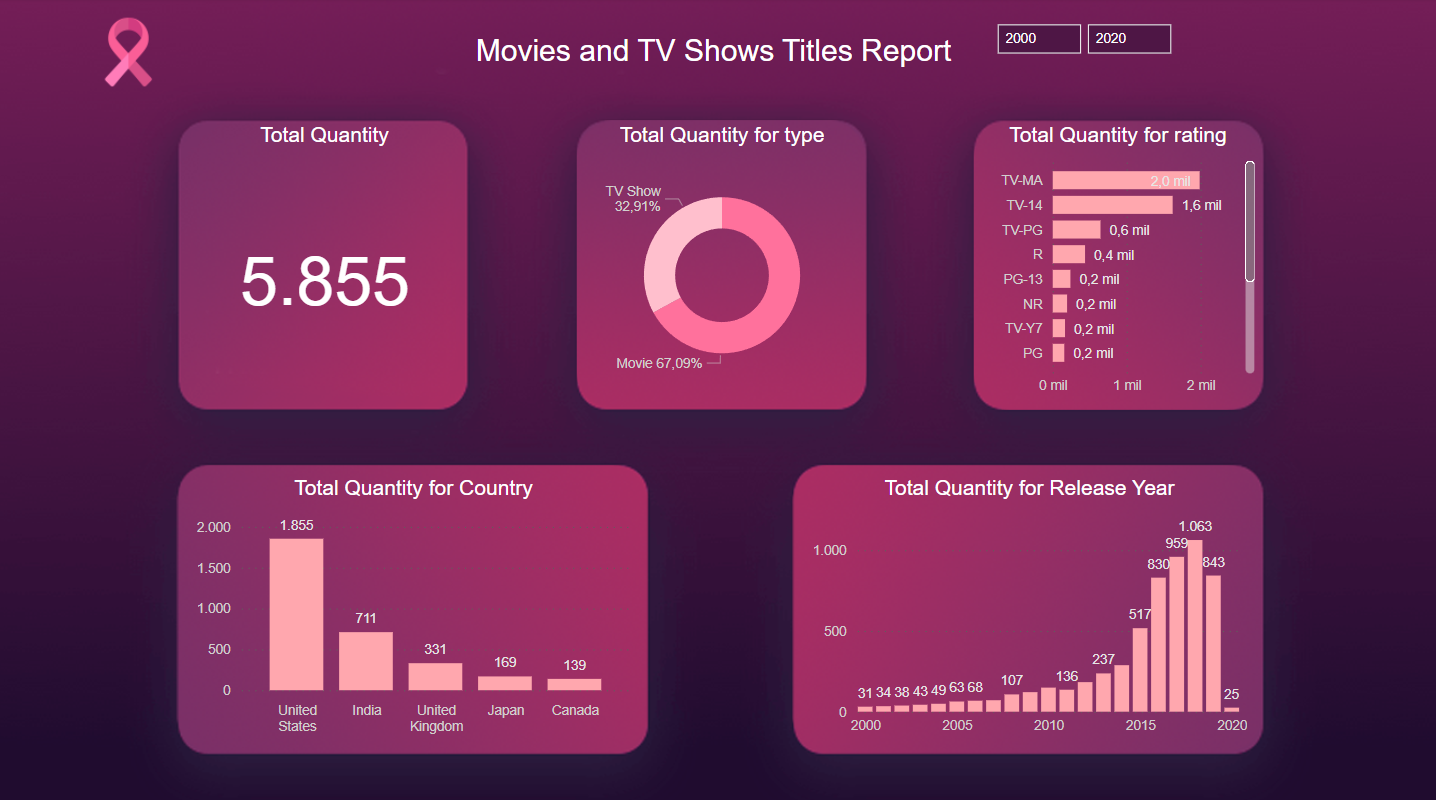

This screenshot's page, from the dashboard's own definition file:
{"tool":"powerbi","page":{"name":"Página 1","canvas":[1280,720],"ordinal":0},"visuals":[{"type":"card","title":"Total Quantity","fields":{"Values":["Tabla 1 (netflix_titles).Total_Quantity"]},"box":[170.2,110.8,238.5,249.2],"z":0},{"type":"donutChart","title":"Total Quantity for type","fields":{"Y":["Tabla 1 (netflix_titles).Total_Quantity"],"Category":["Tabla 1 (netflix_titles).type"]},"box":[528.5,110.8,227,249.2],"z":1},{"type":"clusteredBarChart","title":"Total Quantity for rating","fields":{"Y":["Tabla 1 (netflix_titles).Total_Quantity"],"Category":["Tabla 1 (netflix_titles).rating"]},"box":[867.2,110.8,251.8,249.2],"z":2},{"type":"clusteredColumnChart","title":"Total Quantity for Country","fields":{"Y":["Tabla 1 (netflix_titles).Total_Quantity"],"Category":["Tabla 1 (netflix_titles).country"]},"box":[170.2,423.8,396.4,236.7],"z":3},{"type":"clusteredColumnChart","title":"Total Quantity for Release Year","fields":{"Y":["Tabla 1 (netflix_titles).Total_Quantity"],"Category":["Tabla 1 (netflix_titles).release_year"]},"box":[716.5,423.8,396.4,236.7],"z":4},{"type":"slicer","fields":{"Values":["Tabla 1 (netflix_titles).release_year"]},"box":[873.4,13.3,254.5,70.9],"z":5},{"type":"textbox","box":[418.5,26.6,442.5,41.7],"z":6},{"type":"image","box":[77.1,12.4,77.1,70.9],"z":7}]}

Visuals, with their boxes in screenshot pixels (x1, y1, x2, y2), scaled from the page's 1280x720 canvas onto the 1436x800 screenshot:
"Total Quantity" card: l=191, t=123, r=459, b=400
"Total Quantity for type" donutChart: l=593, t=123, r=848, b=400
"Total Quantity for rating" clusteredBarChart: l=973, t=123, r=1255, b=400
"Total Quantity for Country" clusteredColumnChart: l=191, t=471, r=636, b=734
"Total Quantity for Release Year" clusteredColumnChart: l=804, t=471, r=1249, b=734
slicer - Tabla 1 (netflix_titles).release_year: l=980, t=15, r=1265, b=94
textbox: l=470, t=30, r=966, b=76
image: l=86, t=14, r=173, b=93
